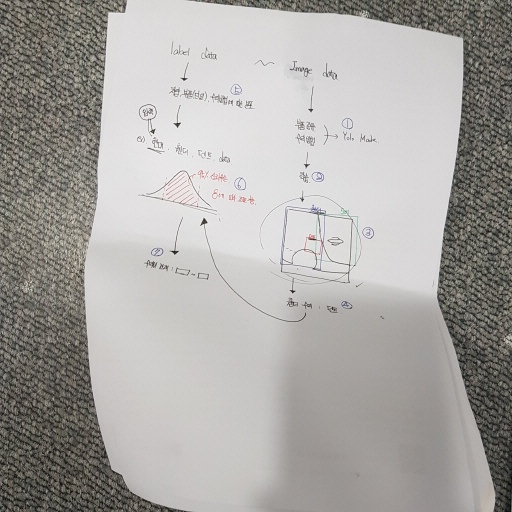Paper_3: (82, 1, 503, 512)
